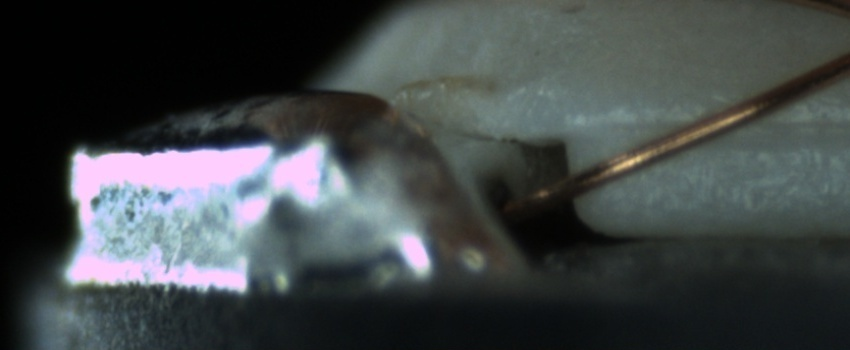DL: (617, 90, 845, 162)
